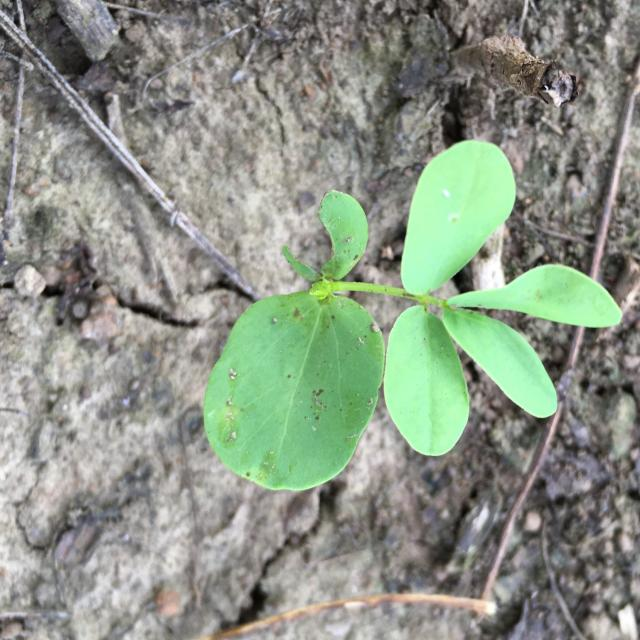Sicklepod: (203, 140, 623, 492)
